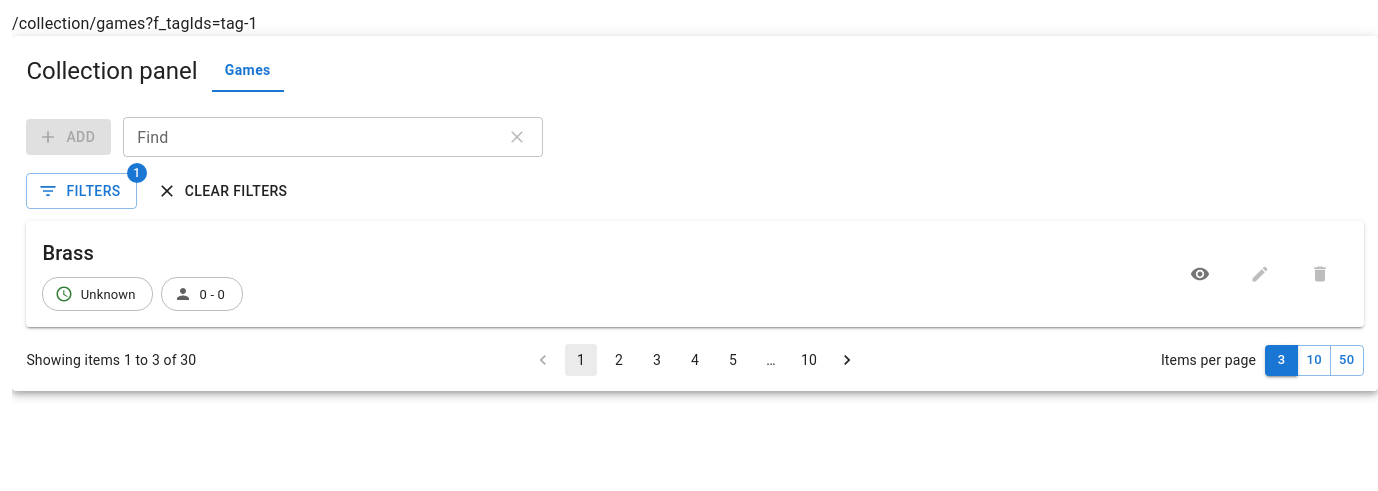
it: EntityPanel filters › resolves names for selected ids restored from the URL
Click the button "Filters" at x=82, y=191, box [26,173,137,209]
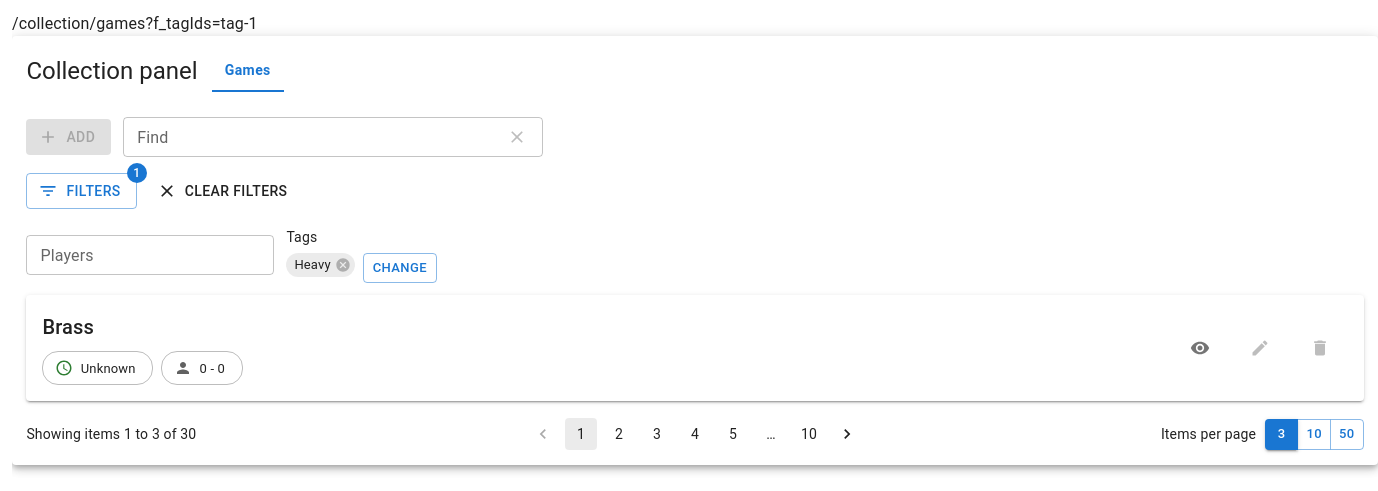
Result: the text "Heavy" is shown at [294,257,331,272]
